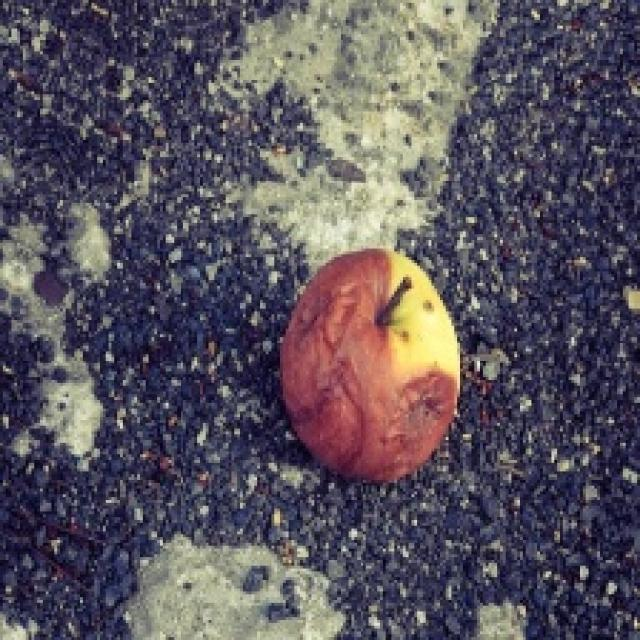rotten_apple: (288, 252, 457, 475)
